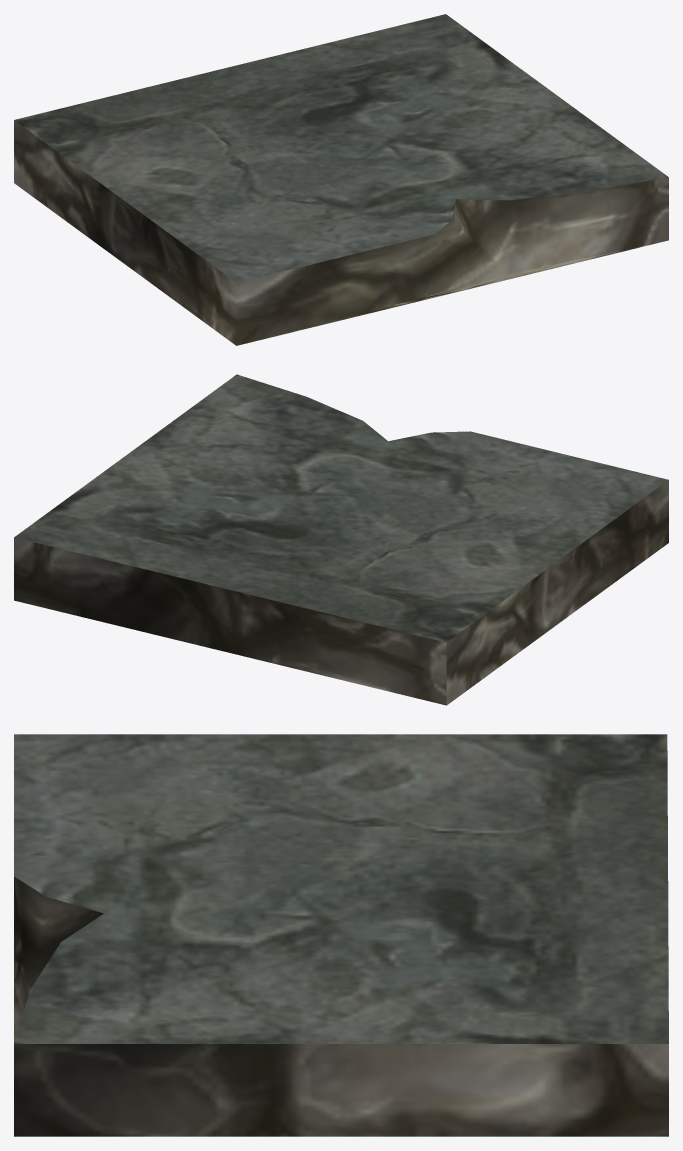
File: Z_dizhuan004.fbx
3 views of the same model, one above another, from view 1: azimuth 30°, elevation 25°; view 2: azimuth 150°, elevation 25°; view 3: azimuth 270°, elevation 25° (orthographic). The views are drawn at different scales.
Parts seen in each view (by area): view 1: Z_dizhuan004; view 2: Z_dizhuan004; view 3: Z_dizhuan004.
Part boxes in pixels (x1,y1,x2,y2): Z_dizhuan004: [14, 14, 668, 345]; Z_dizhuan004: [14, 374, 668, 705]; Z_dizhuan004: [14, 734, 668, 1136].
Size of the model in its own units: 142 by 19.8 by 127.
